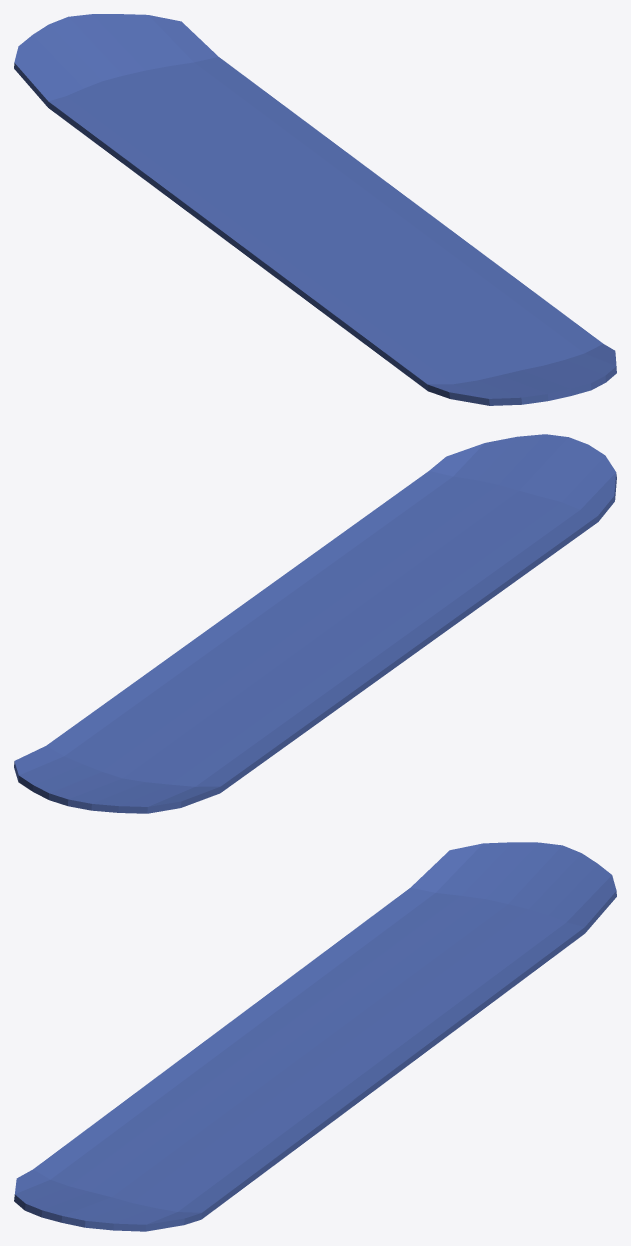
The model's file is snowboard.gltf.
3 views of the same model, one above another, from view 1: azimuth 30°, elevation 25°; view 2: azimuth 150°, elevation 25°; view 3: azimuth 330°, elevation 25° (orthographic).
Visible parts, largest first — view 1: Cube; view 2: Cube; view 3: Cube.
Part boxes in pixels (box(x1,y1,x2,y2)): Cube: box(14, 14, 616, 405); Cube: box(14, 434, 616, 813); Cube: box(14, 842, 616, 1231).
Bounding box in the file's own units: 1.1 × 0.1765 × 5.57.
Materials: 1 (1 with a texture image).
